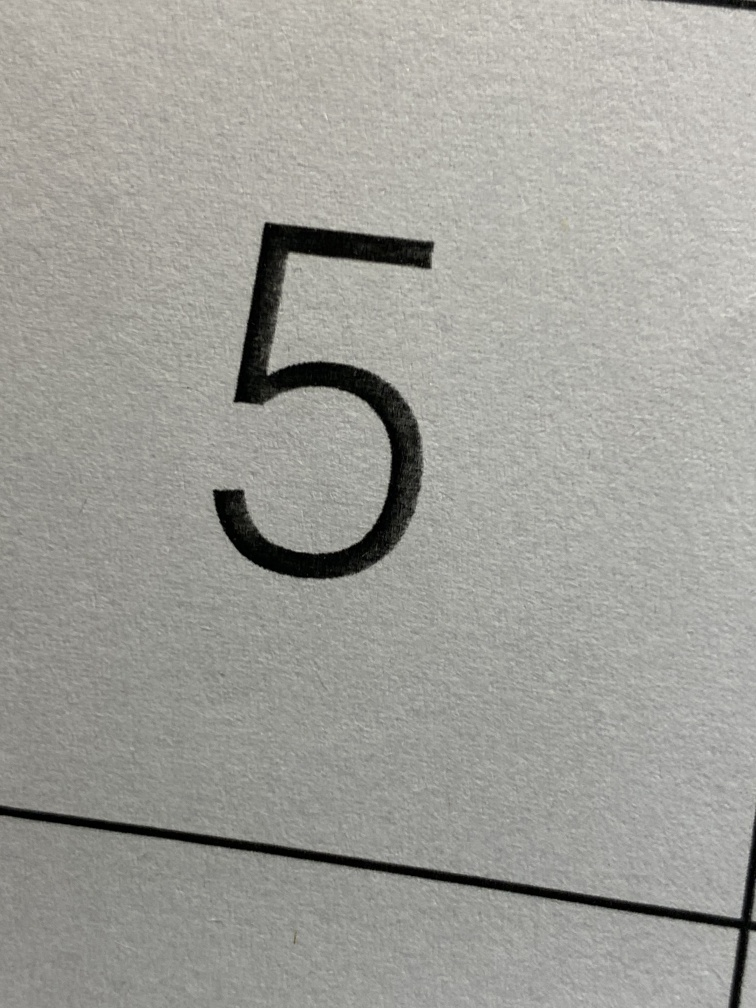five: (176, 161, 502, 639)
